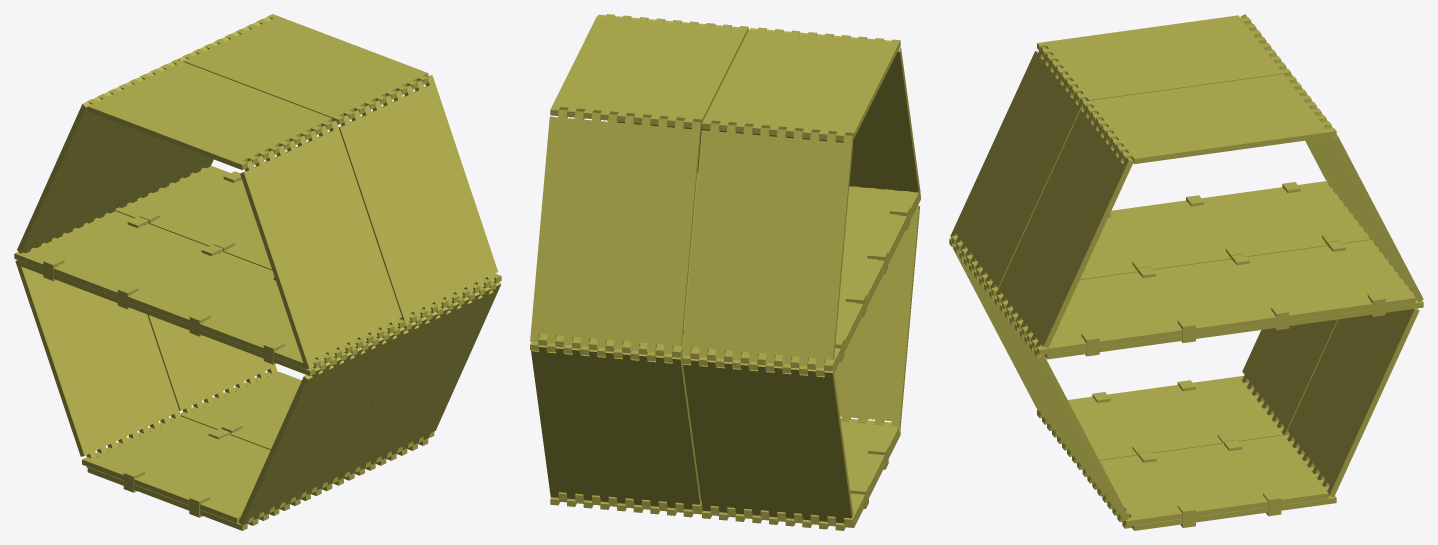
File: cabinet.glb
3 views of the same model, side by side, from view 1: azimuth 30°, elevation 25°; view 2: azimuth 150°, elevation 25°; view 3: azimuth 270°, elevation 25° (orthographic). The views are drawn at different scales.
Visible parts, largest first — view 1: polySurface137; view 2: polySurface137; view 3: polySurface137.
Boxes of the visible parts, left/top/right/bottom form: polySurface137: left=14, top=14, right=501, bottom=530; polySurface137: left=530, top=14, right=920, bottom=530; polySurface137: left=949, top=14, right=1423, bottom=530.
Bounding box in the file's own units: 0.5699 × 0.5879 × 0.6728.
